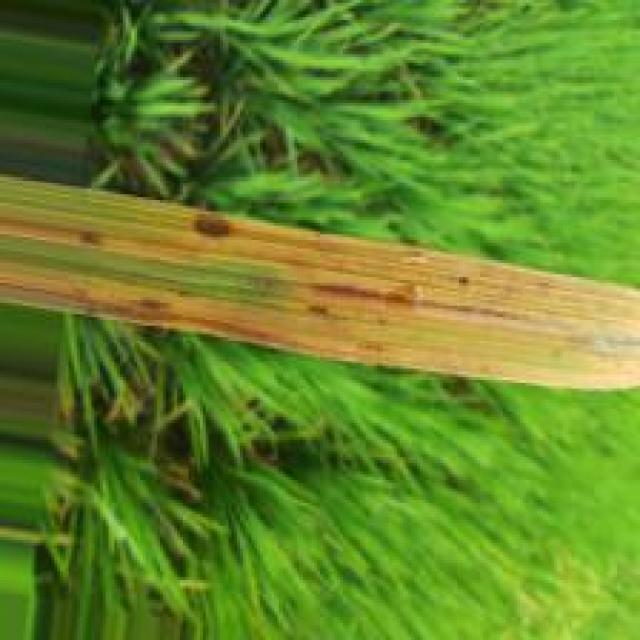Leaf_Blast: (0, 209, 640, 387)
